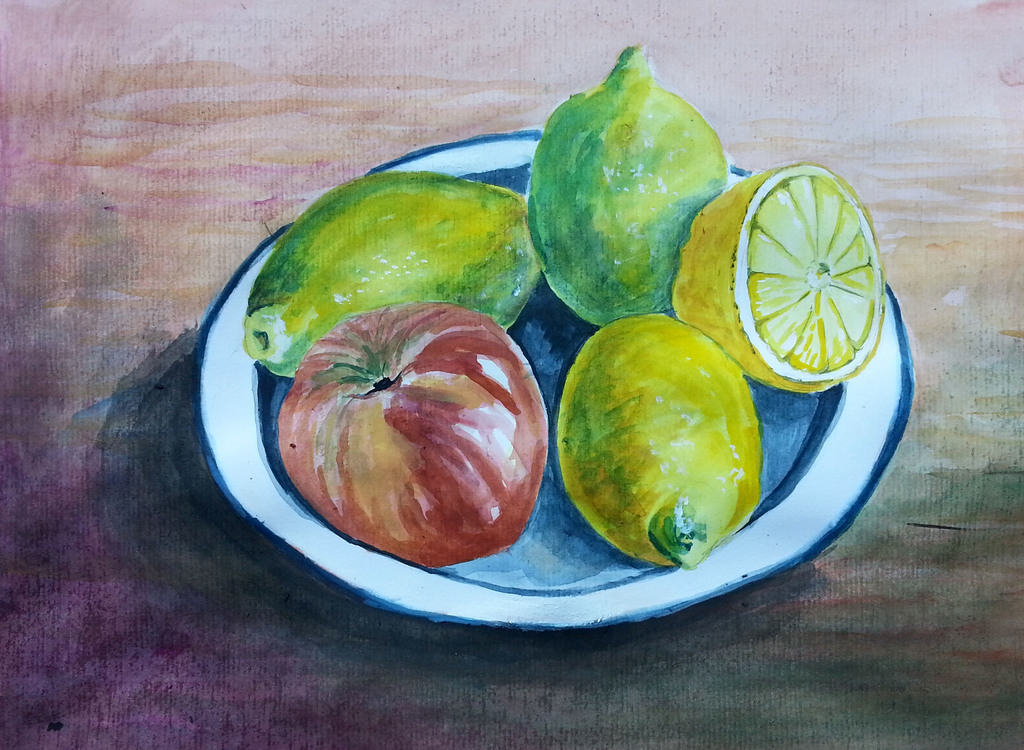Apple: (267, 315, 550, 575)
